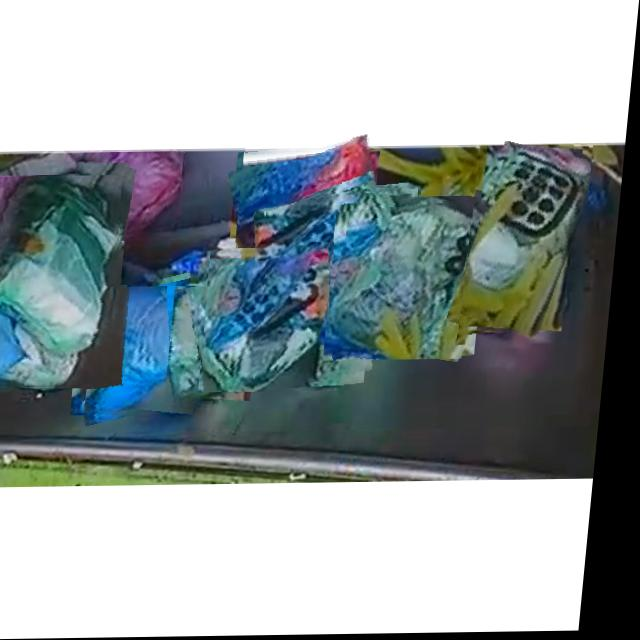general_trashbag: (0, 176, 123, 388), (209, 242, 373, 393), (334, 204, 492, 360), (469, 148, 593, 335), (175, 287, 251, 405)
other_trashbag: (262, 192, 415, 331), (93, 287, 207, 415), (241, 140, 372, 249), (84, 152, 187, 235)
